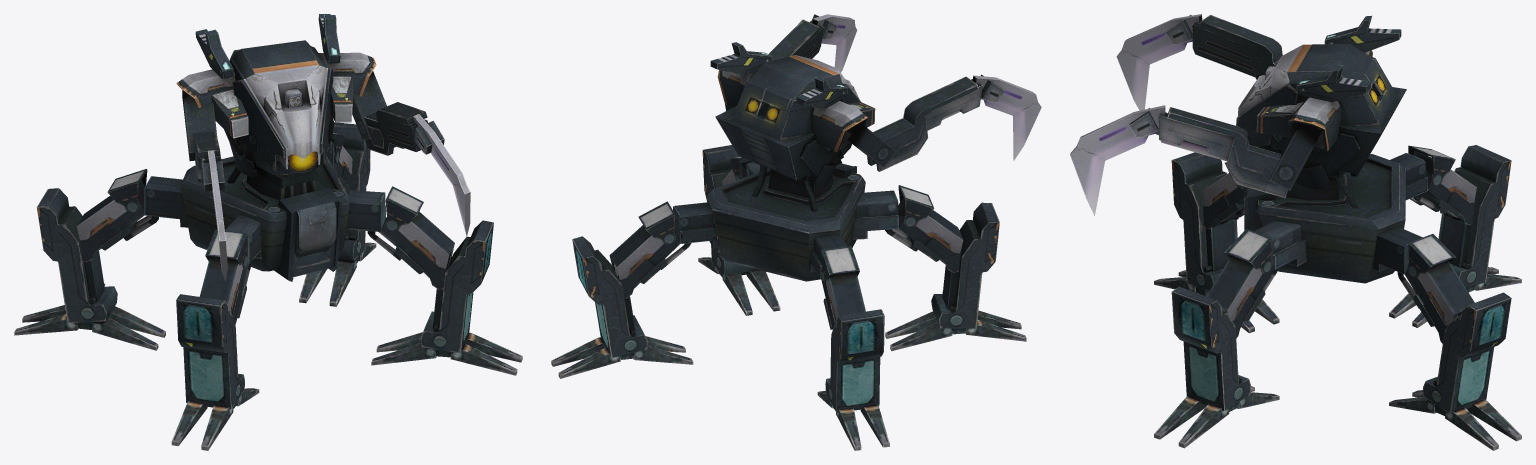
3 views of the same model, side by side, from view 1: azimuth 30°, elevation 25°; view 2: azimuth 150°, elevation 25°; view 3: azimuth 270°, elevation 25° (orthographic). The views are drawn at different scales.
Parts seen in each view (by area): view 1: 20_10; view 2: 20_10; view 3: 20_10.
Part boxes in pixels (bbox=[...]): 20_10: bbox=[14, 14, 522, 450]; 20_10: bbox=[551, 14, 1041, 450]; 20_10: bbox=[1070, 14, 1521, 450].
Size of the model in its own units: 301 by 252 by 320.
